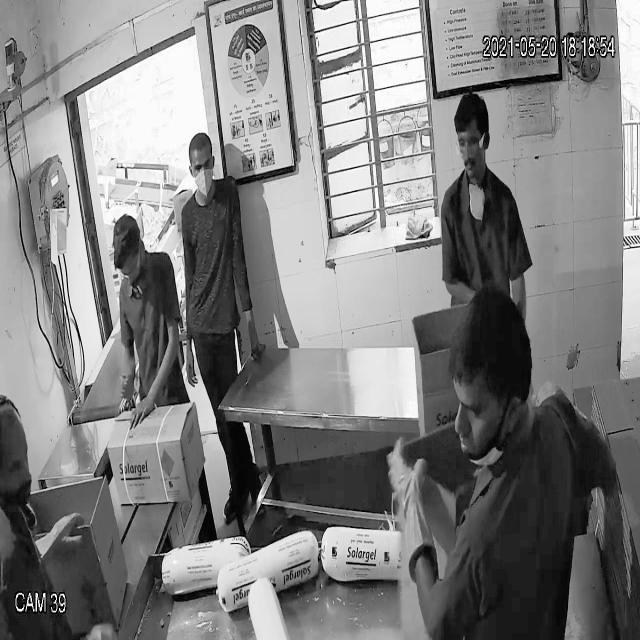glasses: (452, 131, 490, 159)
no-glass: (189, 156, 215, 173)
